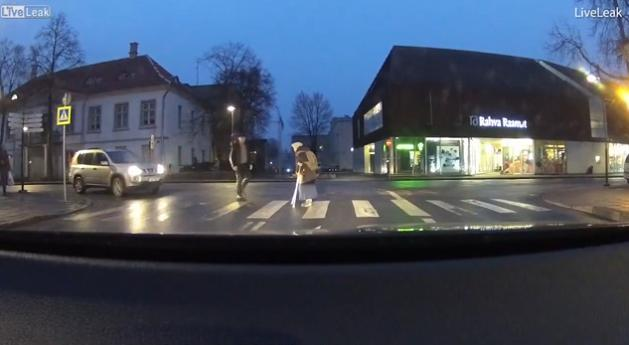crutches: (285, 139, 322, 213)
